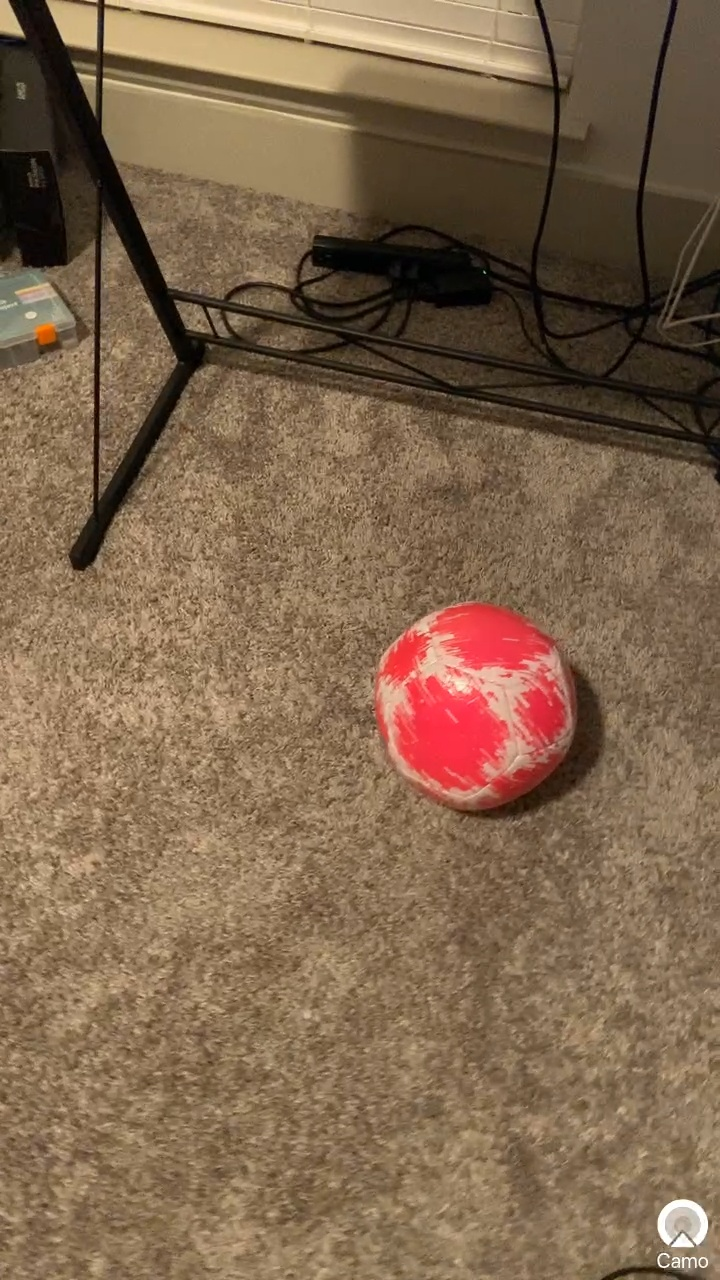Soccer_Ball: (293, 563, 638, 890)
